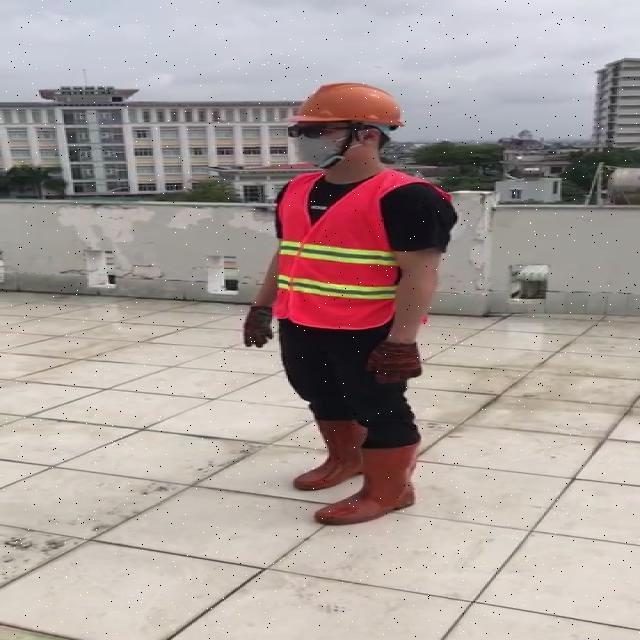Hard_hat: (282, 79, 410, 139)
Person: (234, 78, 463, 531)
Vest: (276, 169, 403, 331)
